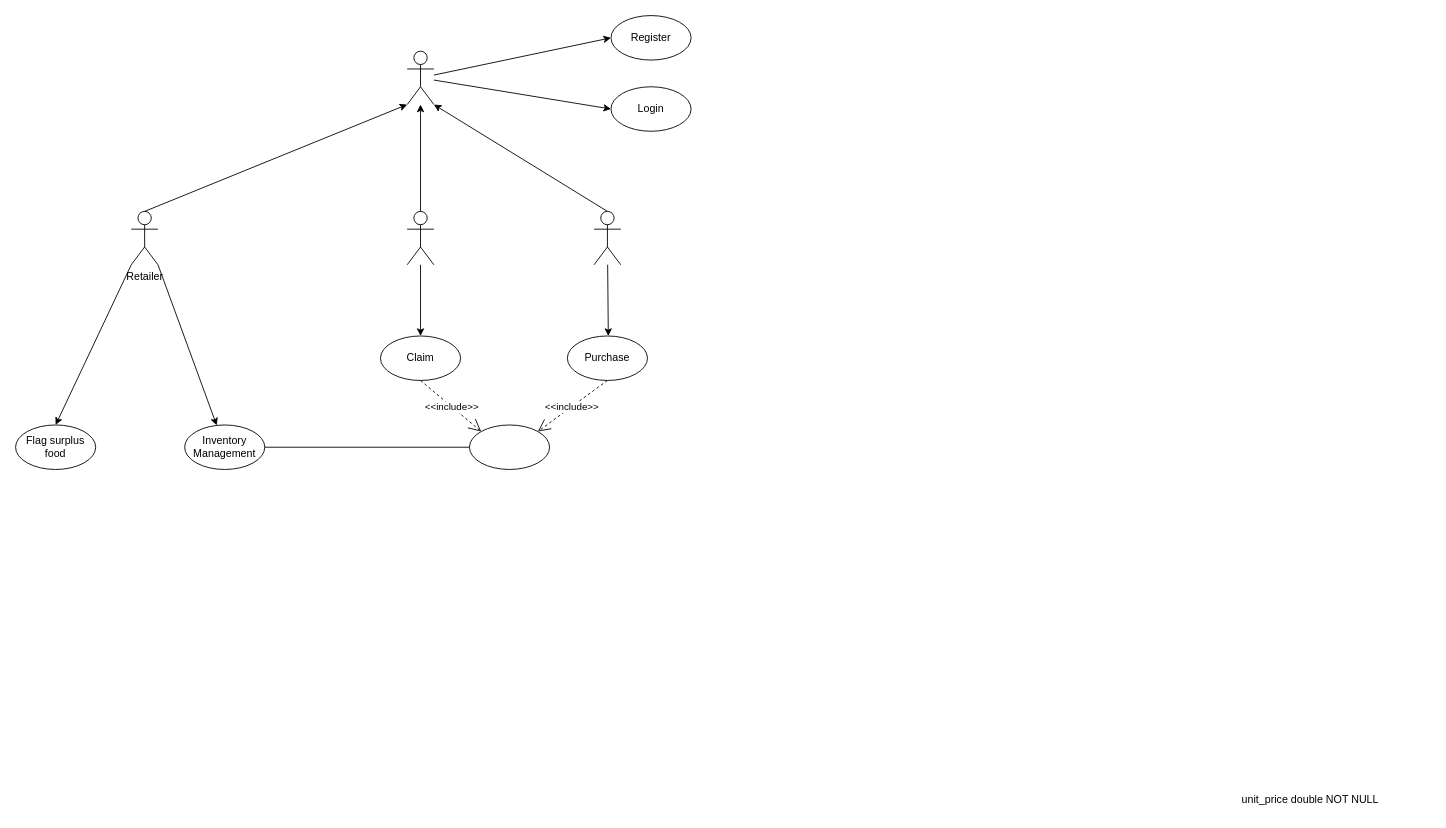
Image size: 1446x828. Some labels were removed from this diagram. The centre of each missing label's shape, as x and y in pixels:
CharitableOrganization: the point at 420,237
Consumer: the point at 607,237
Update Inventory: the point at 509,446
User: the point at 420,77
